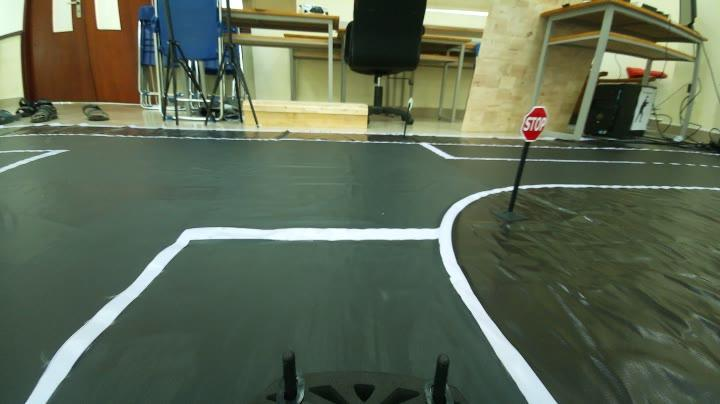stop: (520, 102, 550, 144)
